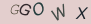G: (19, 3, 32, 16), (10, 3, 20, 15)
O: (32, 2, 45, 16)
W: (51, 3, 66, 21)
X: (75, 6, 89, 20)
